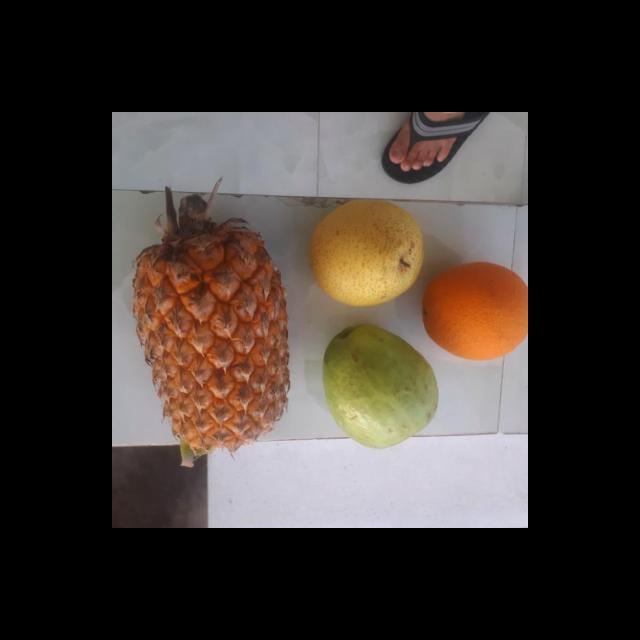guava: (321, 328, 436, 446)
orange: (418, 260, 528, 360)
pear: (303, 198, 425, 307)
pineapple: (132, 219, 286, 456)
